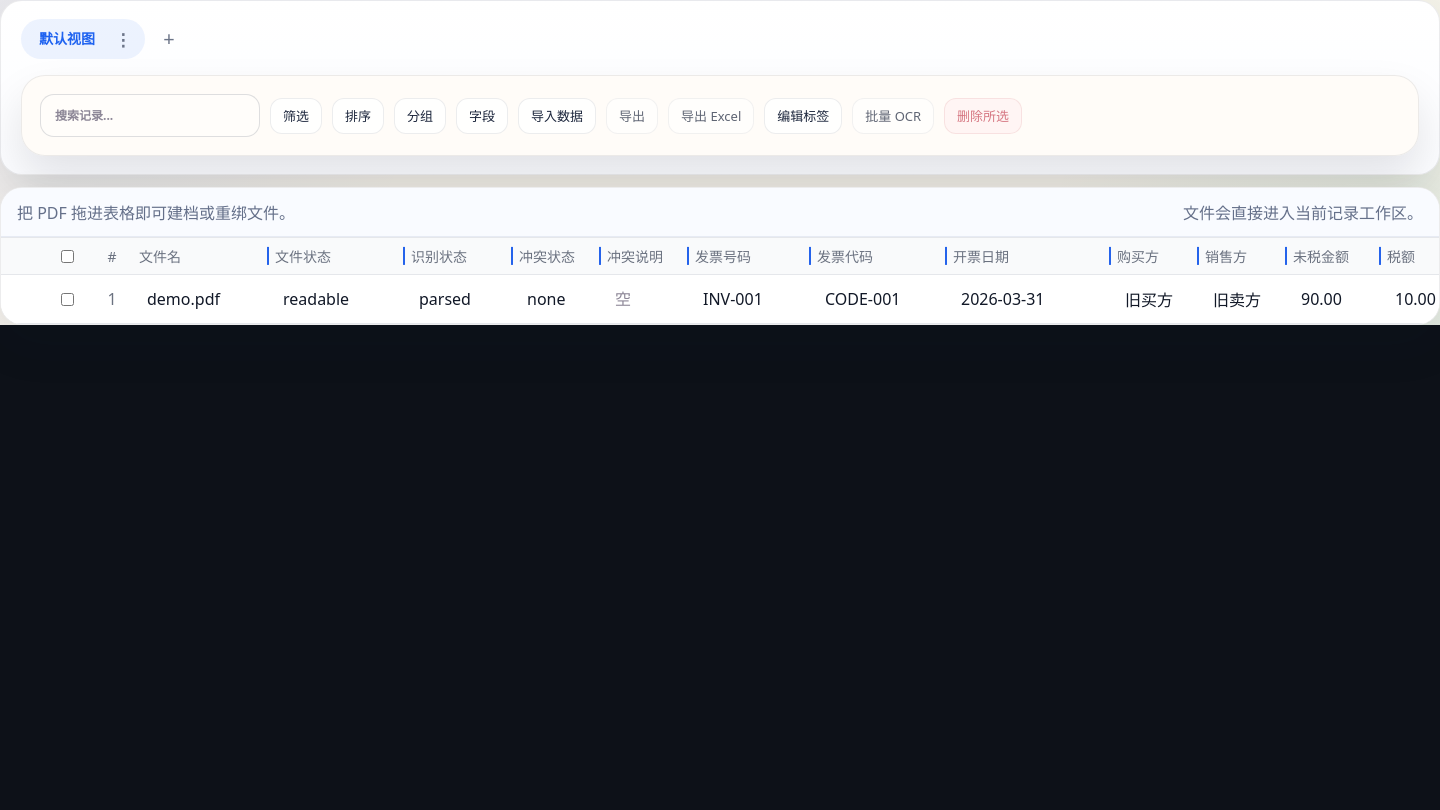
Scenario: InvoiceWorkspace saved views › shows all workspace columns in the builtin default view
Click the button "字段" at [482, 116], box [456,98,508,134]
(page scrolled)
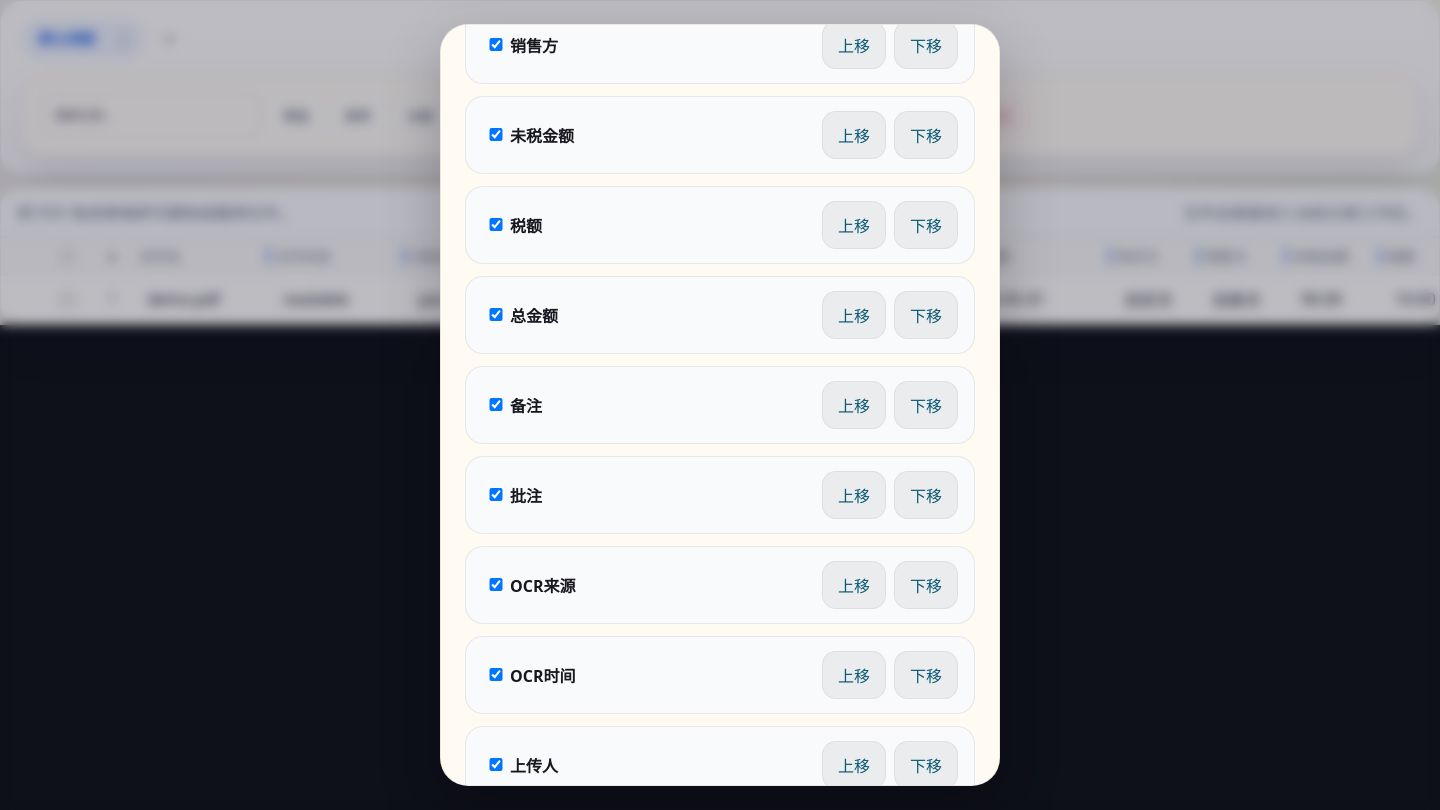
Expected: the checkbox named "显示字段 备注" is checked, [486,398,506,411]
